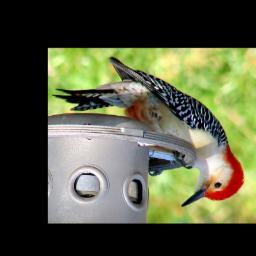Woodpecker: (52, 55, 244, 207)
